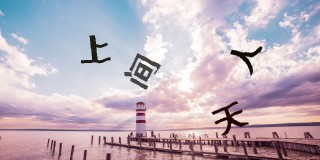上: (81, 34, 112, 64)
人: (229, 43, 262, 76)
天: (212, 100, 248, 135)
间: (125, 53, 160, 89)
